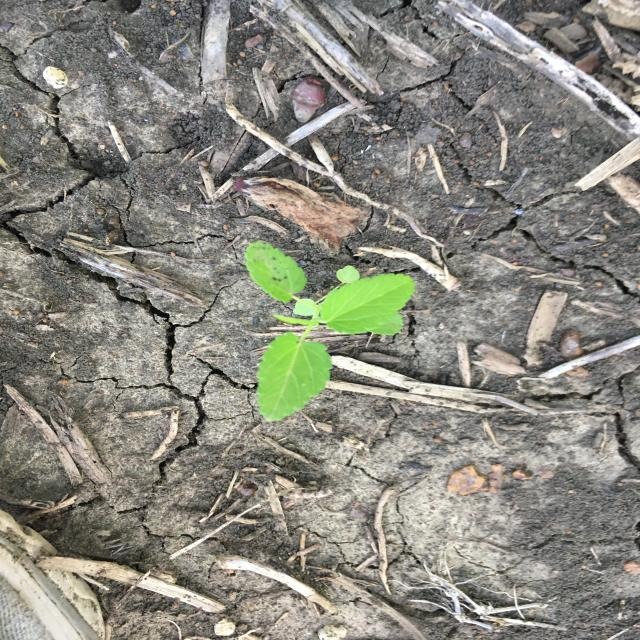PricklySida: (242, 239, 418, 423)
